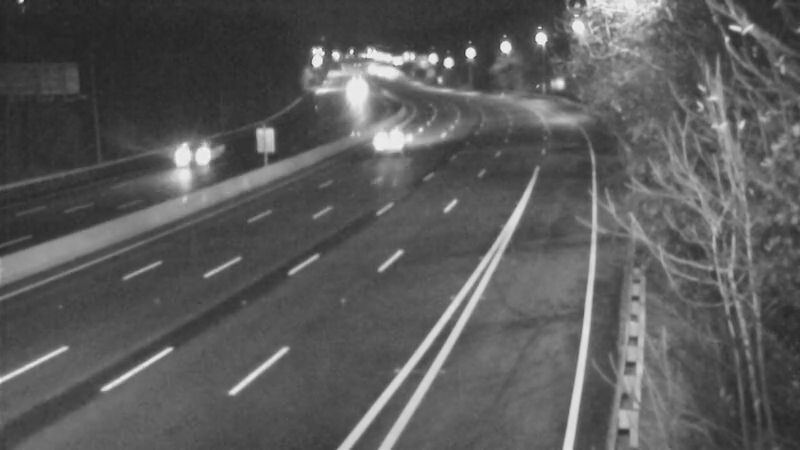vehicle: (146, 120, 226, 200), (361, 119, 411, 169), (336, 76, 386, 126)
